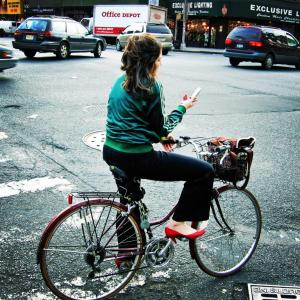Vehicle-registration-plate: (26, 35, 34, 42), (236, 42, 244, 49)
